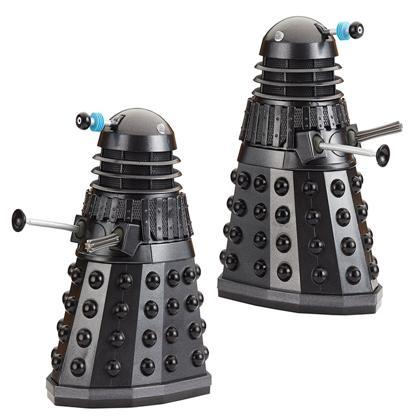dalek: (202, 6, 416, 334), (5, 91, 218, 412)
